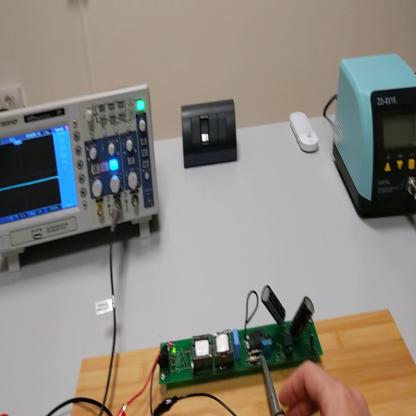hand: (279, 360, 370, 415)
high voltage board: (126, 286, 325, 408)
oscilloscope: (2, 80, 162, 274)
oscilloscope probe tip: (255, 347, 278, 413)
welder station: (333, 51, 416, 222)
working area: (71, 311, 416, 416)
